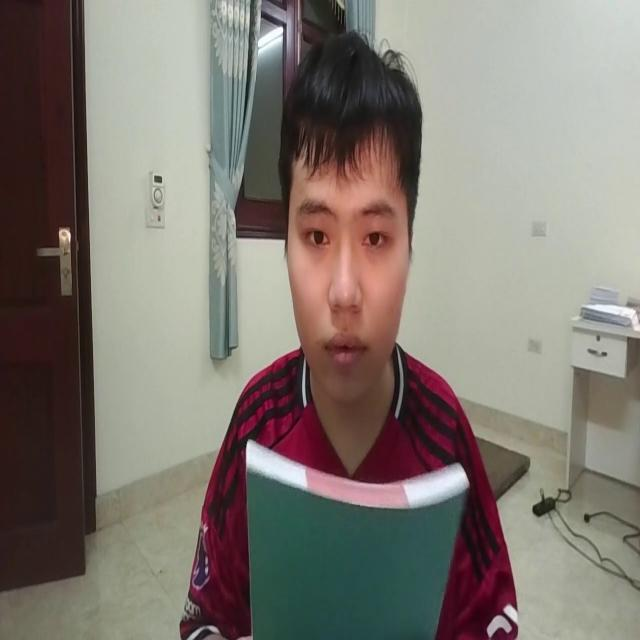book: (240, 431, 468, 640)
student: (183, 26, 520, 640)
